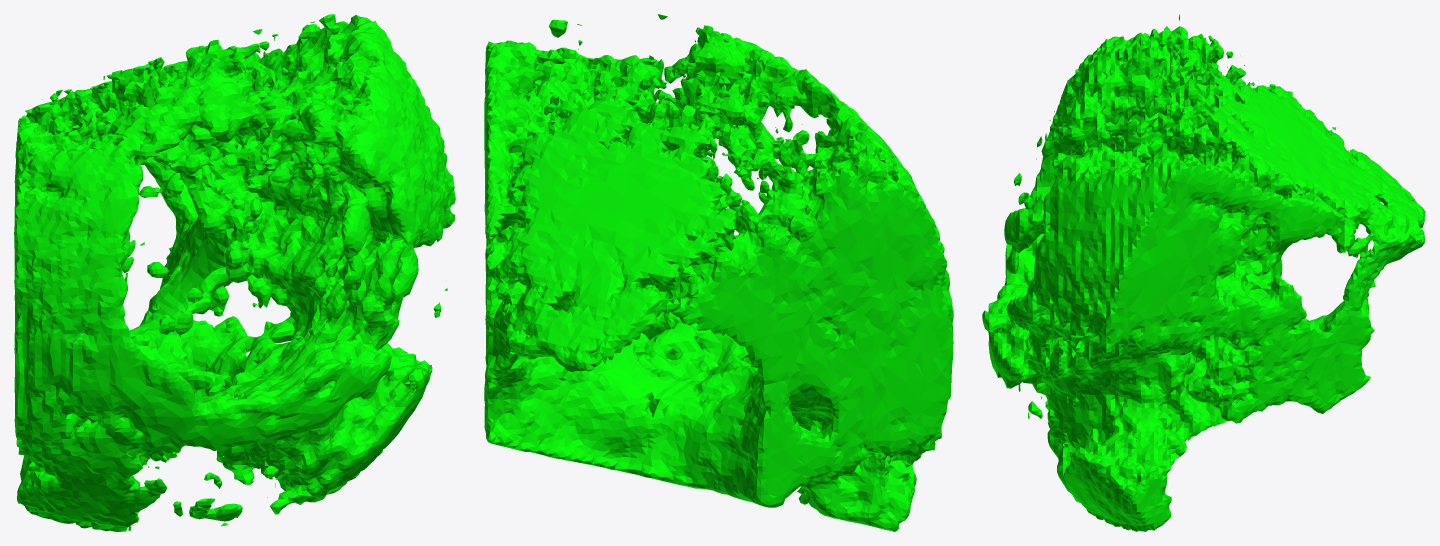
The model's file is B939XXXX-1_base_41.obj.
3 renders of one model, left to right at view 1: azimuth 30°, elevation 25°; view 2: azimuth 150°, elevation 25°; view 3: azimuth 270°, elevation 25°, orthographic. The views are drawn at different scales.
Parts seen in each view (by area): view 1: 41_base; view 2: 41_base; view 3: 41_base.
Part boxes in pixels (<box>): 41_base: <box>14,14,455,531</box>; 41_base: <box>484,14,953,531</box>; 41_base: <box>982,14,1425,531</box>.
Bounding box in the file's own units: 220 × 219 × 205.
